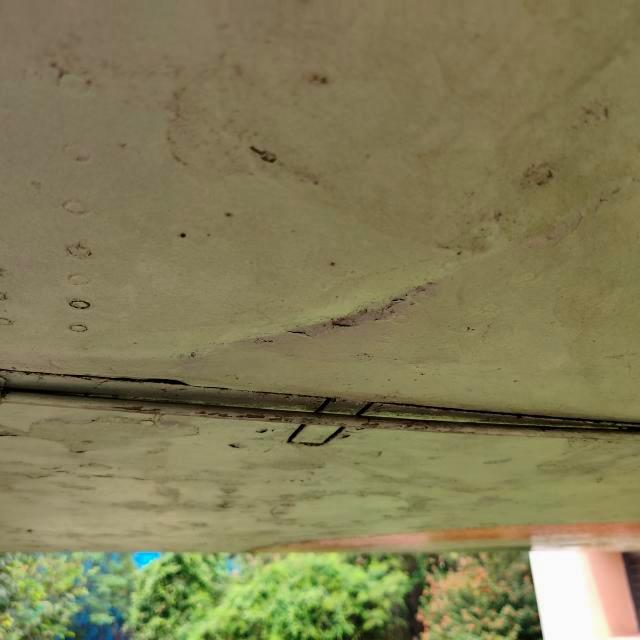dent: (201, 224, 485, 378)
